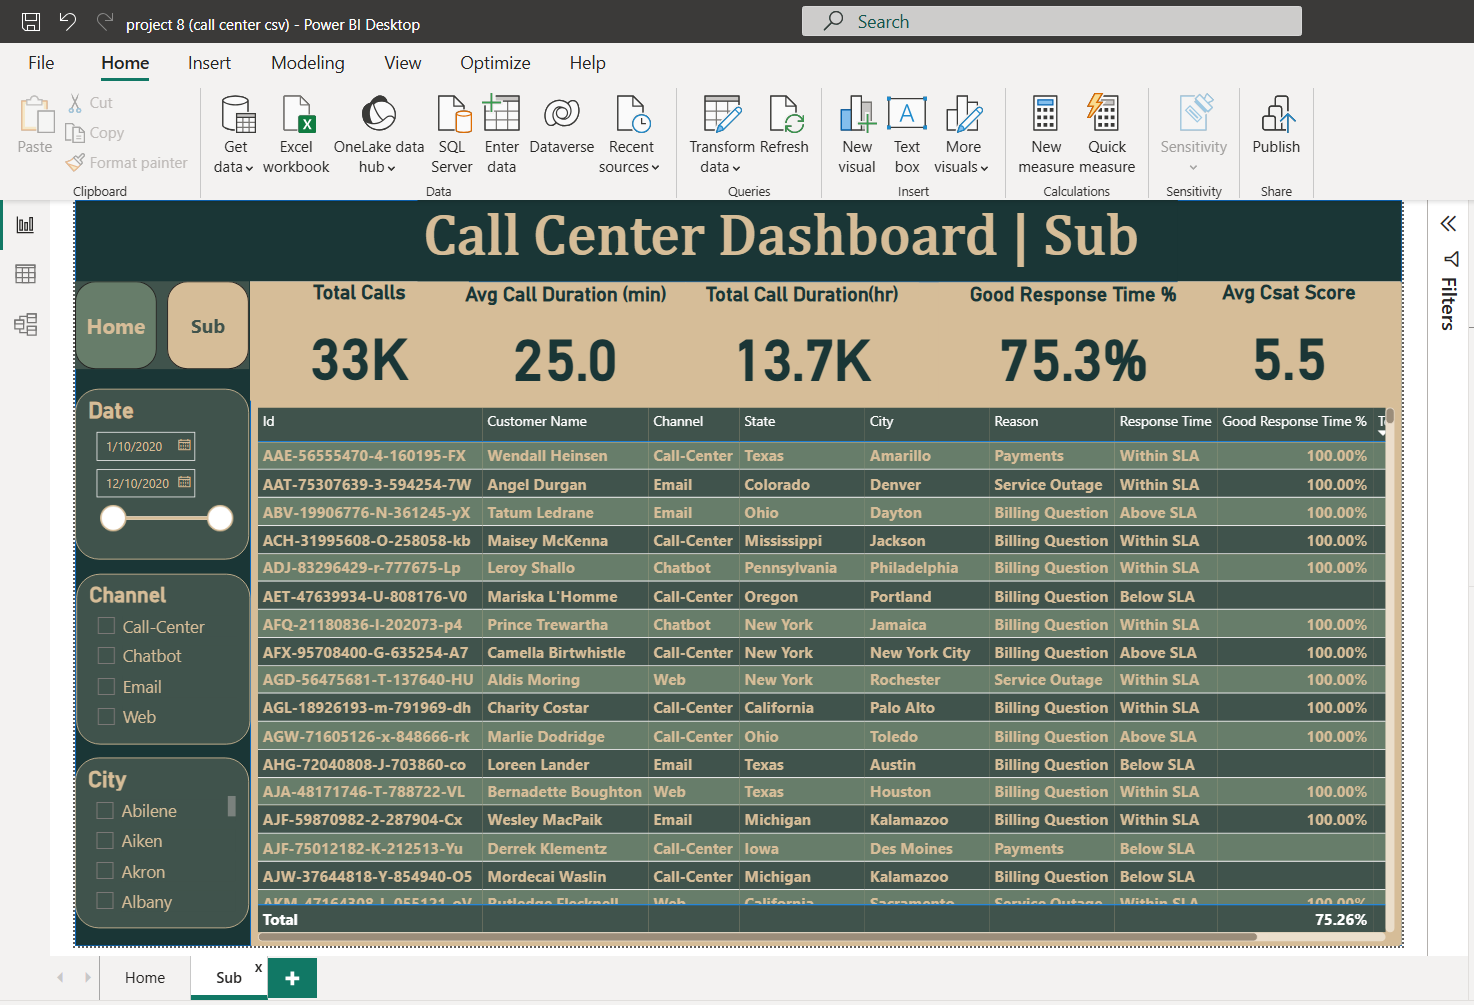

The dashboard page shown, as its layout file describes it:
{"tool":"powerbi","page":{"name":"Sub","canvas":[1280,720],"ordinal":1},"visuals":[{"type":"shape","box":[0,0,1280.6,720.1],"z":0},{"type":"shape","box":[168.3,78.4,1112.3,641.7],"z":1000},{"type":"card","title":"Total Calls","fields":{"Values":["Dax Measure.Total Calls"]},"box":[168.3,78.4,211.1,115.5],"z":2000},{"type":"card","title":"Avg Call Duration (min)","fields":{"Values":["Dax Measure.Avg Call Duration(min)"]},"box":[356.5,79.9,232.4,115.5],"z":3000},{"type":"card","title":"Total Call Duration(hr)","fields":{"Values":["Dax Measure.Total Call Duration(hr)"]},"box":[589,79.9,225.3,115.5],"z":4000},{"type":"card","title":"Good Response Time %","fields":{"Values":["Dax Measure.Good Response Time %"]},"box":[832.8,79.9,259.5,115.5],"z":5000},{"type":"card","title":"Avg Csat Score","fields":{"Values":["Dax Measure.Avg Csat Score"]},"box":[1063.8,78.4,215.3,115.5],"z":6000},{"type":"textbox","box":[330,0,733.3,78.3],"z":7000},{"type":"slicer","title":"Date","fields":{"Values":["Call Center_Call Center.Call Timestamp"]},"box":[0,181.7,168.3,165],"z":8000},{"type":"slicer","title":"Channel","fields":{"Values":["Call Center_Call Center.Channel"]},"box":[1.7,360,168.3,165],"z":9000},{"type":"slicer","title":"City","fields":{"Values":["Call Center_Call Center.City"]},"box":[0,538.3,168.3,165],"z":10000},{"type":"tableEx","fields":{"Values":["Call Center_Call Center.Id","Call Center_Call Center.Customer Name","Call Center_Call Center.Channel","Call Center_Call Center.State","Call Center_Call Center.City","Call Center_Call Center.Reason","Call Center_Call Center.Response Time","Dax Measure.Good Response Time %","Dax Measure.Total Call Duration(min)"]},"box":[170,195,1108.3,525],"z":11000},{"type":"pageNavigator","box":[0,78.3,168.3,85],"z":12001}]}

Visuals, with their boxes on the page's 1280x720 design canvas (x1, y1, x2, y2). These are canvas units, not pixel positions in the 1474x1005 screenshot, which may show the page scaled, cropped or inside an application window:
shape: bbox=[0, 0, 1281, 720]
shape: bbox=[168, 78, 1281, 720]
"Total Calls" card: bbox=[168, 78, 379, 194]
"Avg Call Duration (min)" card: bbox=[356, 80, 589, 195]
"Total Call Duration(hr)" card: bbox=[589, 80, 814, 195]
"Good Response Time %" card: bbox=[833, 80, 1092, 195]
"Avg Csat Score" card: bbox=[1064, 78, 1279, 194]
textbox: bbox=[330, 0, 1063, 78]
"Date" slicer: bbox=[0, 182, 168, 347]
"Channel" slicer: bbox=[2, 360, 170, 525]
"City" slicer: bbox=[0, 538, 168, 703]
tableEx - Call Center_Call Center.Id x Call Center_Call Center.Customer Name: bbox=[170, 195, 1278, 720]
pageNavigator: bbox=[0, 78, 168, 163]
